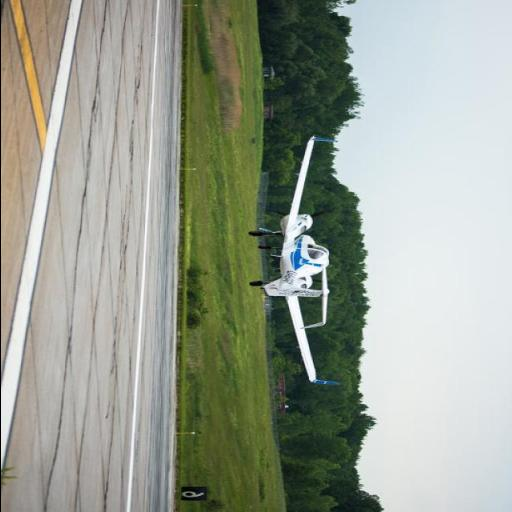uav: (264, 136, 351, 390)
